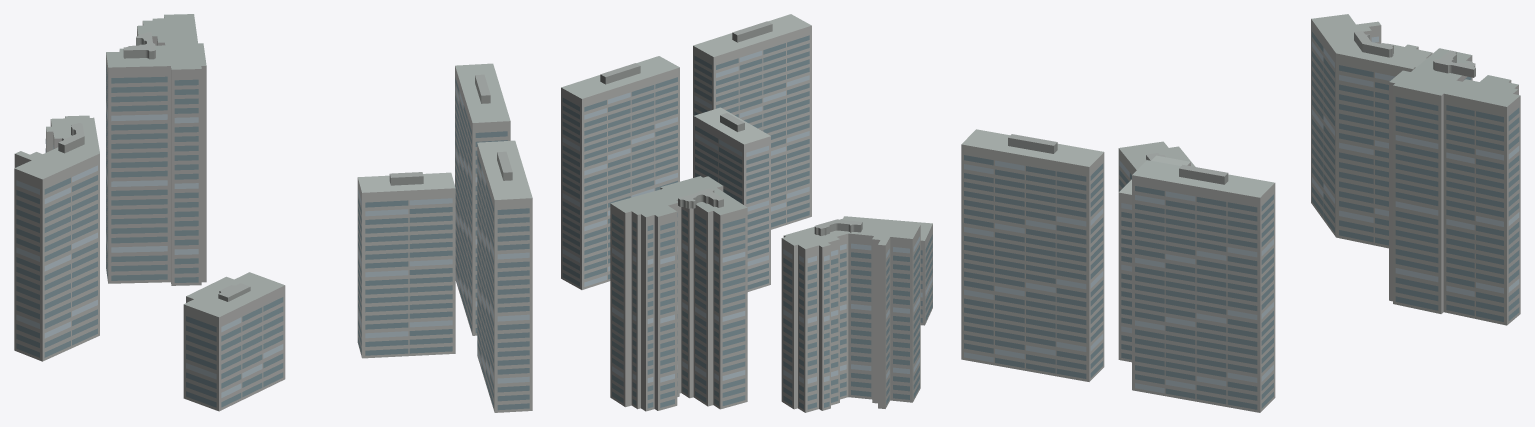
File: apt-a15809601.glb
The picture shows the model from 3 angles, left to right: view 1: azimuth 30°, elevation 25°; view 2: azimuth 150°, elevation 25°; view 3: azimuth 270°, elevation 25°; orthographic projection. The views are drawn at different scales.
Parts seen in each view (by area): view 1: apt-a15809601; view 2: apt-a15809601; view 3: apt-a15809601.
Part boxes in pixels (x1,y1,x2,y2): apt-a15809601: (14, 14, 532, 412); apt-a15809601: (561, 14, 932, 412); apt-a15809601: (961, 14, 1520, 412).
Bounding box in the file's own units: 134 × 66 × 147.
